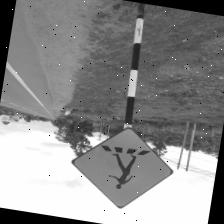crossing: (4, 100, 42, 118)
yellowboard: (65, 120, 180, 218)
